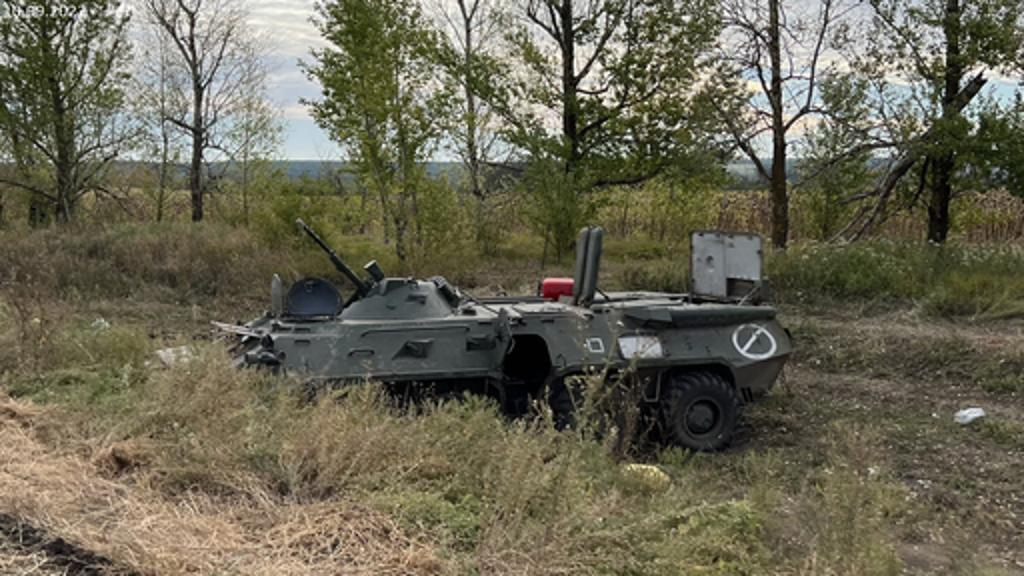APC-IFV: (128, 212, 794, 480)
